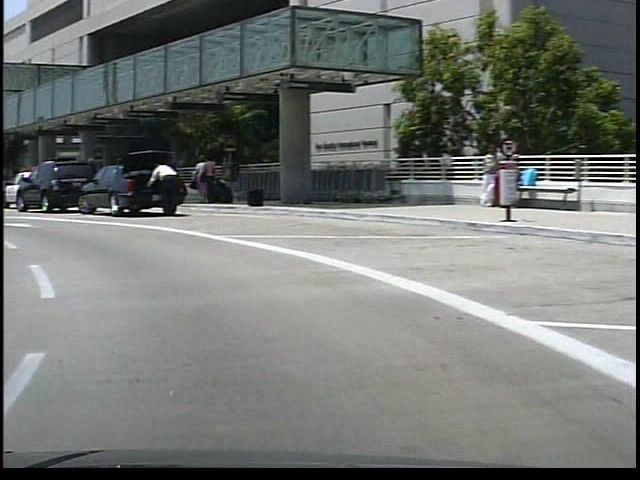person: (141, 162, 179, 223), (197, 154, 216, 209), (187, 157, 204, 207)
